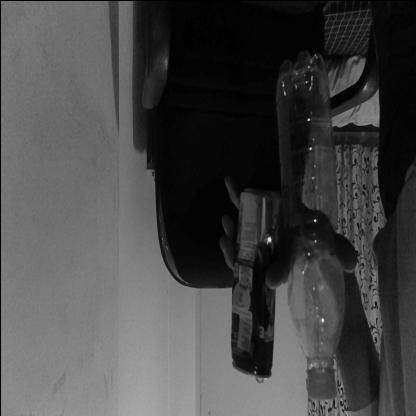alumunium_can: (229, 178, 275, 386)
plastic_bottles: (274, 57, 338, 402)
